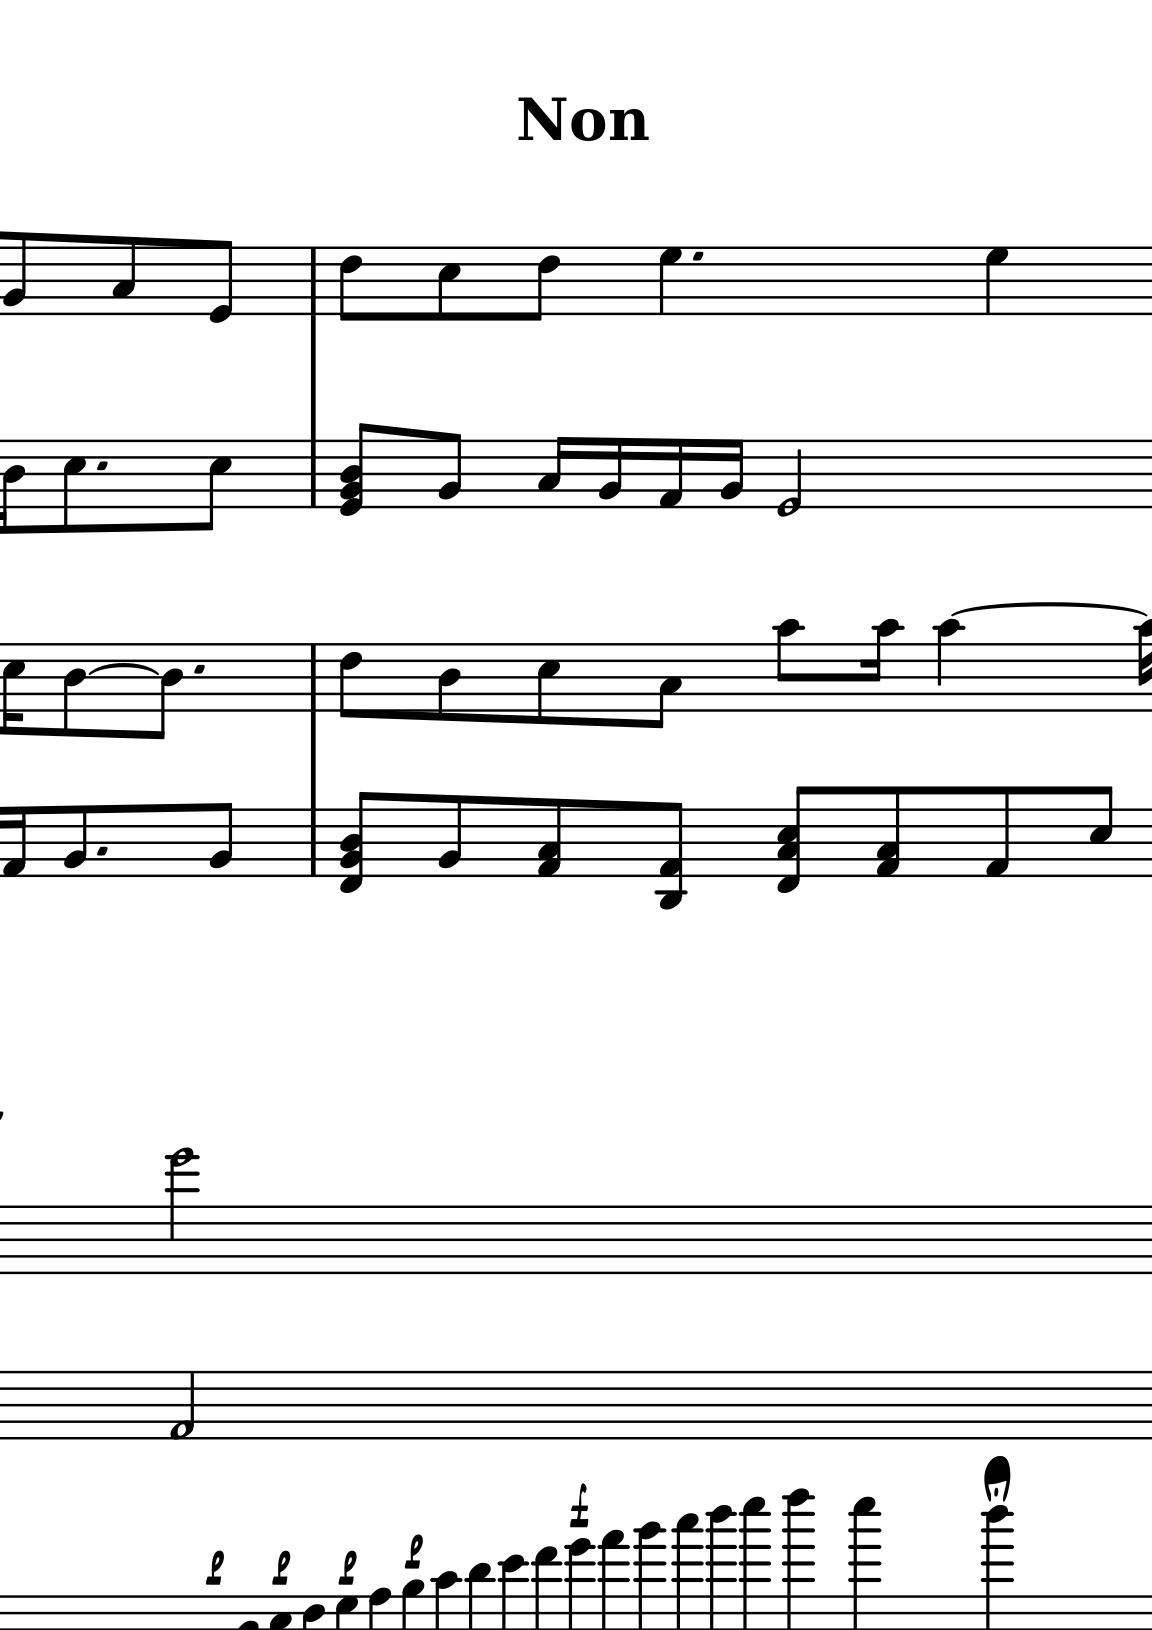16_1: (657, 436, 684, 510), (2, 805, 27, 880)
16_10: (860, 617, 899, 715)
16_2: (596, 436, 623, 510), (719, 437, 746, 508)
16_3: (536, 435, 569, 510)
16_5: (1, 642, 25, 736)
2_0: (775, 437, 803, 518)
2_1: (168, 1370, 197, 1443)
4_10: (933, 618, 962, 715)
4_14: (165, 1146, 201, 1274)
4_7: (982, 245, 1011, 317), (657, 245, 684, 317)
8_-3_1: (656, 801, 689, 912)
8_0: (206, 238, 234, 326)
8_1: (980, 783, 1011, 880)
8_10: (773, 618, 803, 714)
8_1_3: (873, 784, 903, 879)
8_2: (1, 231, 27, 318), (438, 794, 463, 879), (438, 430, 463, 510), (208, 800, 233, 880), (64, 803, 89, 881)
8_3: (647, 641, 683, 730), (110, 234, 138, 317)
8_4: (146, 641, 183, 740), (61, 642, 86, 739), (435, 642, 461, 723)
8_5: (194, 437, 232, 533), (61, 437, 89, 535), (1087, 783, 1113, 879), (535, 642, 561, 727), (435, 245, 461, 323)
8_6: (526, 245, 560, 324), (337, 245, 363, 323), (338, 642, 363, 719)
8_th: (774, 784, 810, 894), (339, 790, 374, 891), (338, 422, 372, 516)
Single_barline: (300, 642, 325, 712), (300, 247, 325, 314), (302, 437, 324, 508), (302, 808, 324, 877)
Slur: (949, 602, 1150, 617), (89, 663, 157, 675)
dot: (92, 457, 108, 475), (95, 841, 110, 860), (190, 662, 206, 678), (689, 248, 704, 265)
f: (567, 1482, 591, 1530)
p: (401, 1533, 424, 1570), (271, 1550, 292, 1586), (337, 1550, 357, 1586), (204, 1550, 224, 1585)
